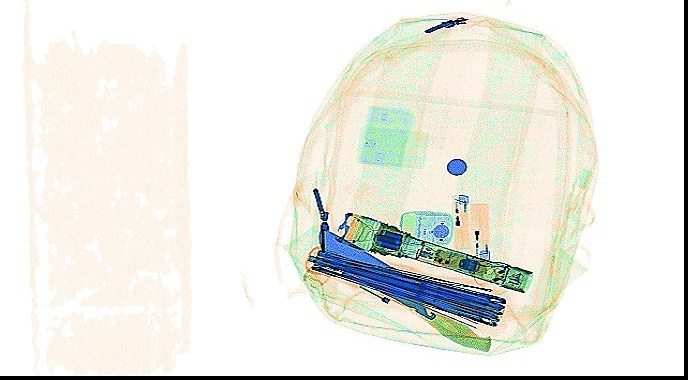knife: (318, 226, 491, 353)
lighter: (469, 201, 491, 266), (449, 193, 470, 253)
